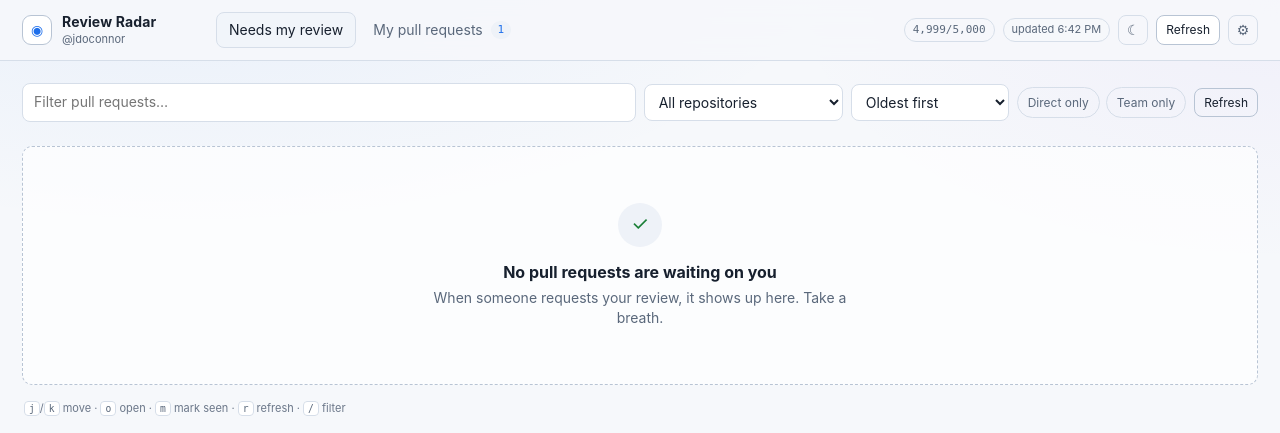
Scenario: the stack message on a waiting pull request › keeps the branch name when no parent pull request is known
What coordinates should you click on to do the following:
click the button with test id "tab-mine"
I would click on:
 (442, 30)
Its box is [360,12,524,48].
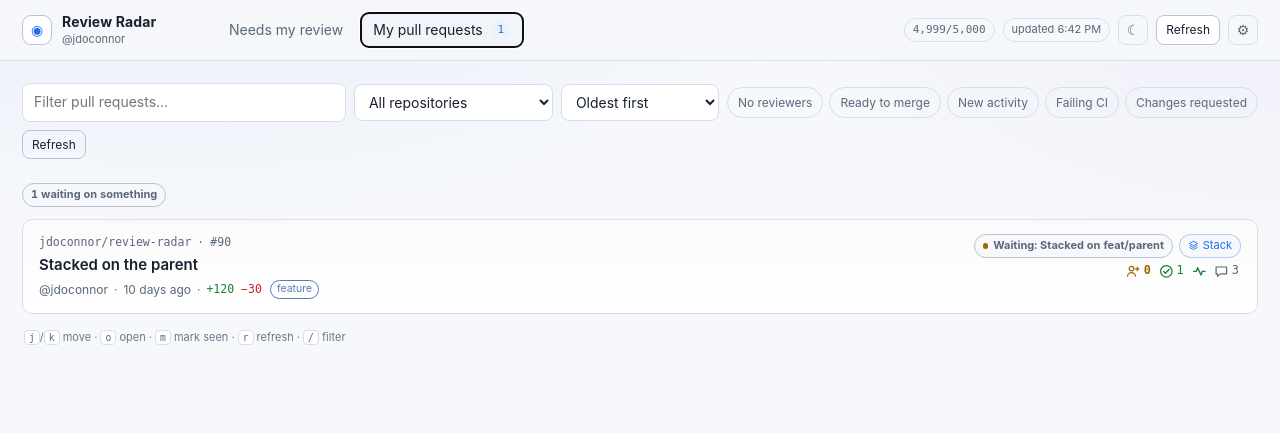
Expected: the link "Stacked on the parent" is shown, [39,255,198,274]
Expected: the element with test id "merge-readiness" reads "Waiting: Stacked on feat/parent", [974,234,1173,258]
